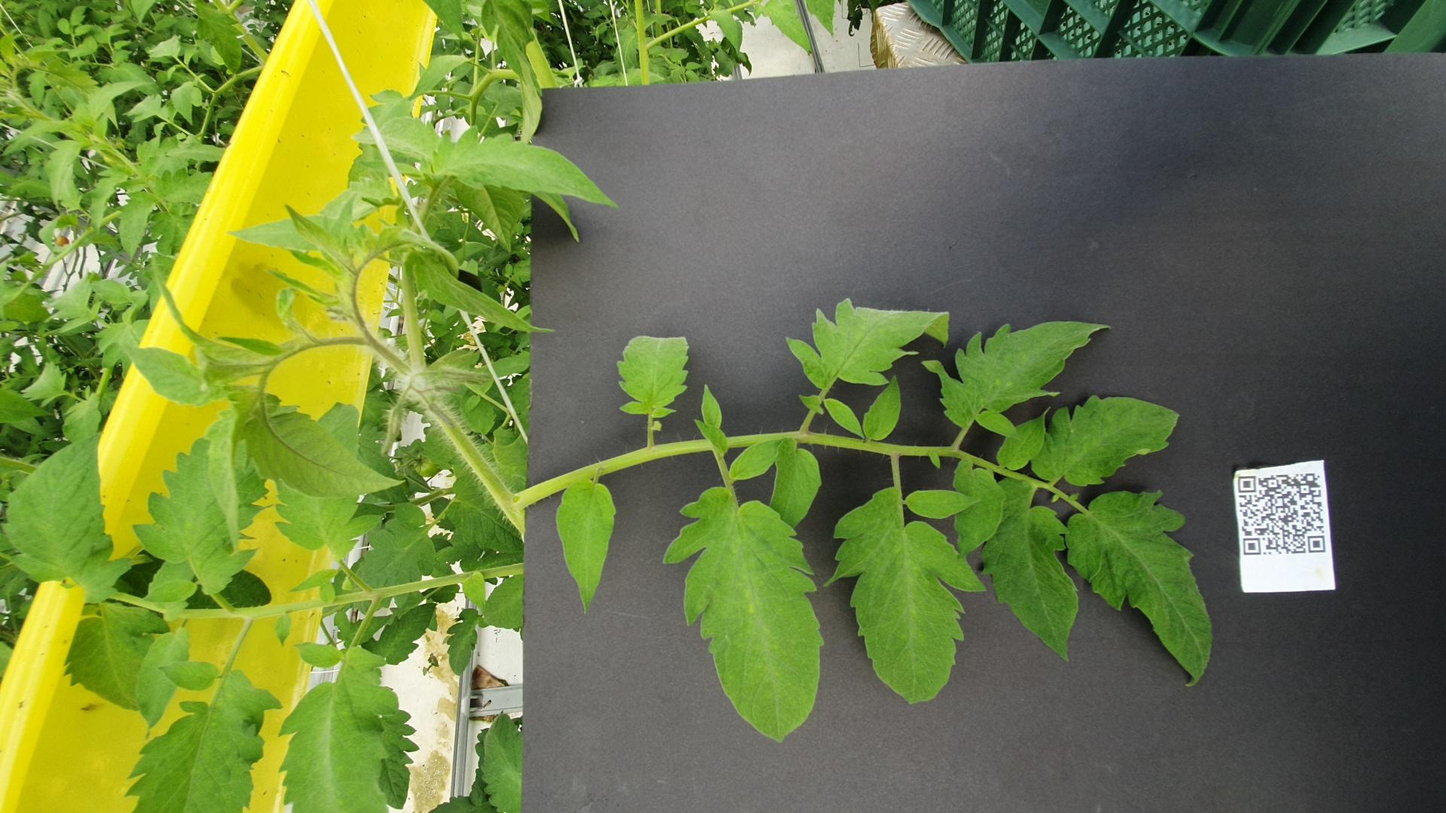Healthy: (129, 372, 581, 462), (194, 463, 582, 555), (219, 599, 576, 683), (0, 69, 268, 159), (665, 518, 877, 626), (378, 0, 679, 75), (0, 155, 304, 224), (388, 74, 668, 145), (268, 551, 597, 607), (1073, 229, 1225, 347), (752, 442, 921, 536), (561, 137, 714, 229), (581, 580, 744, 663), (360, 312, 592, 347), (702, 347, 851, 389), (146, 75, 328, 106), (445, 536, 631, 566), (502, 432, 667, 462), (610, 561, 726, 591), (986, 66, 1106, 89), (661, 485, 780, 508), (591, 410, 665, 440), (664, 462, 739, 486), (640, 389, 700, 410), (679, 394, 766, 407)
